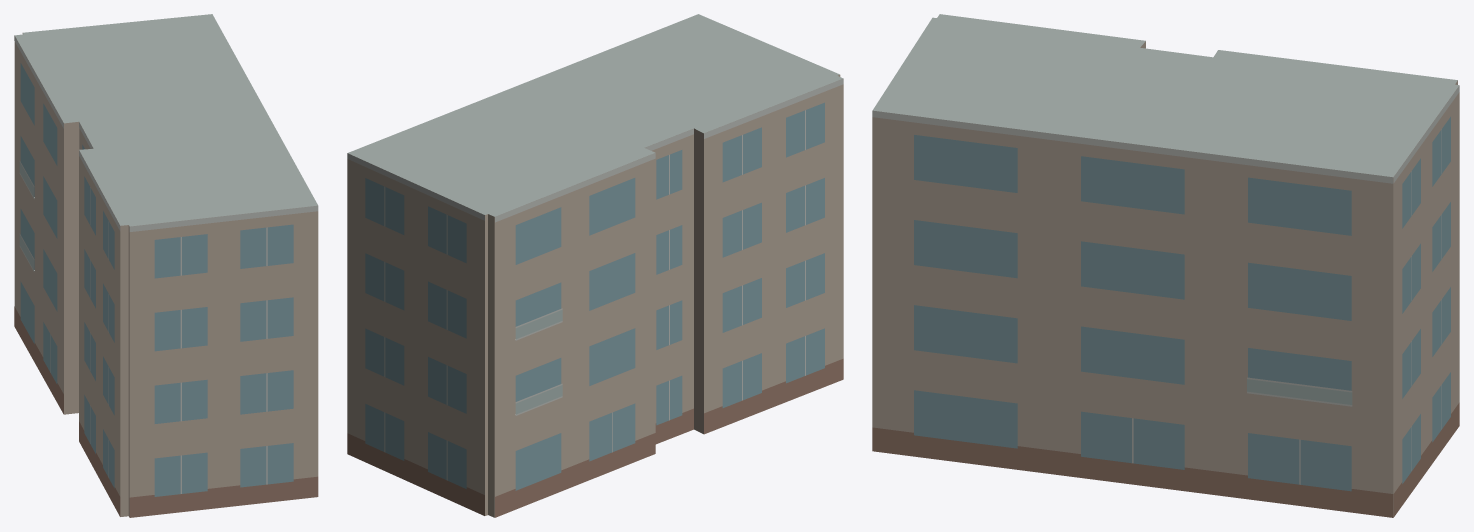
File: survey-upis-32662531.glb
3 renders of one model, left to right at view 1: azimuth 30°, elevation 25°; view 2: azimuth 150°, elevation 25°; view 3: azimuth 270°, elevation 25°, orthographic. The views are drawn at different scales.
Visible parts, largest first — view 1: survey-upis-32662531.tmp; view 2: survey-upis-32662531.tmp; view 3: survey-upis-32662531.tmp.
Part boxes in pixels (<box>): survey-upis-32662531.tmp: <box>14,14,318,517</box>; survey-upis-32662531.tmp: <box>347,14,843,517</box>; survey-upis-32662531.tmp: <box>872,14,1459,517</box>.
Bounding box in the file's own units: 13.06 × 12.7 × 19.85.
